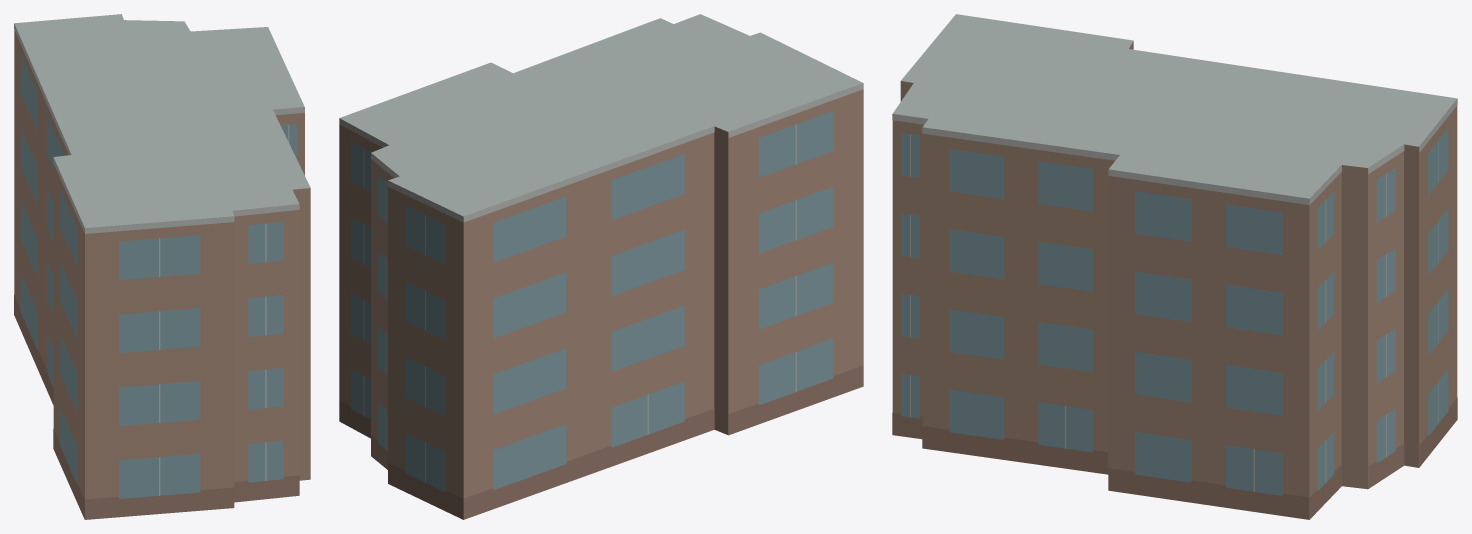
File: survey-upis-33033867.glb
3 renders of one model, left to right at view 1: azimuth 30°, elevation 25°; view 2: azimuth 150°, elevation 25°; view 3: azimuth 270°, elevation 25°, orthographic. The views are drawn at different scales.
Visible parts, largest first — view 1: survey-upis-33033867.tmp; view 2: survey-upis-33033867.tmp; view 3: survey-upis-33033867.tmp.
Part boxes in pixels (x1,y1,x2,y2): survey-upis-33033867.tmp: (14, 14, 310, 519); survey-upis-33033867.tmp: (339, 14, 863, 519); survey-upis-33033867.tmp: (892, 14, 1457, 519).
Size of the model in its own units: 15.05 by 12.2 by 19.46.
